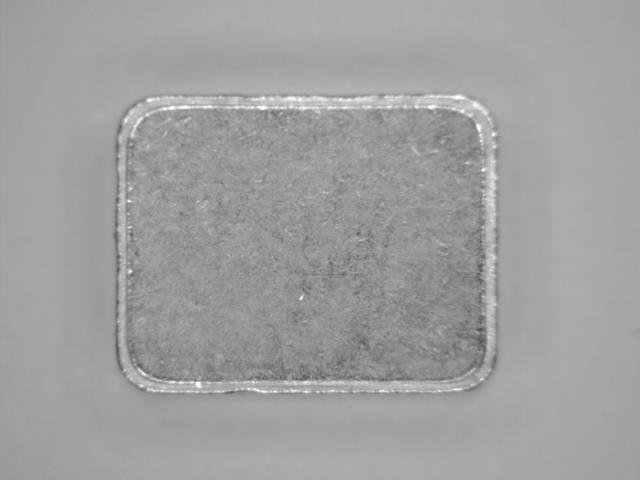nok: (114, 92, 504, 397)
